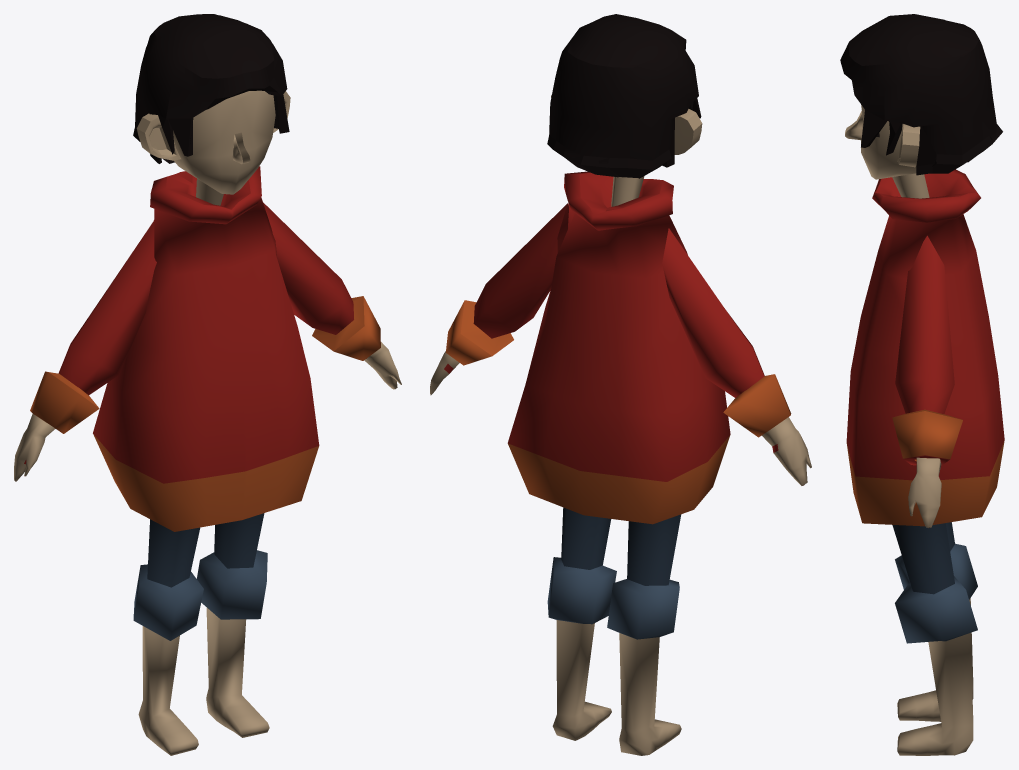
The model's file is decak.fbx.
3 views of the same model, side by side, from view 1: azimuth 30°, elevation 25°; view 2: azimuth 150°, elevation 25°; view 3: azimuth 270°, elevation 25° (orthographic).
Visible parts, largest first — view 1: Cube.001, Cylinder, Cylinder.001, Cube.004, Cube.002, Cube.003; view 2: Cube.001, Cylinder, Cylinder.001, Cube.004, Cube.003, Cylinder.002; view 3: Cube.001, Cube.004, Cylinder, Cylinder.001, Cube.002, Cube.003, Cylinder.002.
Part boxes in pixels (x1,y1,x2,y2): Cube.001: (93, 166, 319, 531); Cylinder: (133, 513, 269, 755); Cylinder.001: (14, 202, 401, 481); Cube.004: (133, 14, 289, 163); Cube.002: (173, 90, 275, 194); Cube.003: (136, 91, 290, 160); Cube.001: (507, 171, 730, 524); Cylinder: (547, 507, 681, 755); Cylinder.001: (430, 203, 811, 485); Cube.004: (547, 14, 701, 178); Cube.003: (551, 95, 702, 154); Cylinder.002: (611, 176, 644, 206); Cube.001: (846, 169, 1004, 526); Cube.004: (840, 14, 1002, 175); Cylinder: (892, 522, 977, 755); Cylinder.001: (892, 235, 962, 527); Cube.002: (845, 104, 916, 179); Cube.003: (897, 124, 920, 167); Cylinder.002: (892, 173, 929, 198).
Size of the model in its own units: 221 by 394 by 82.65.
